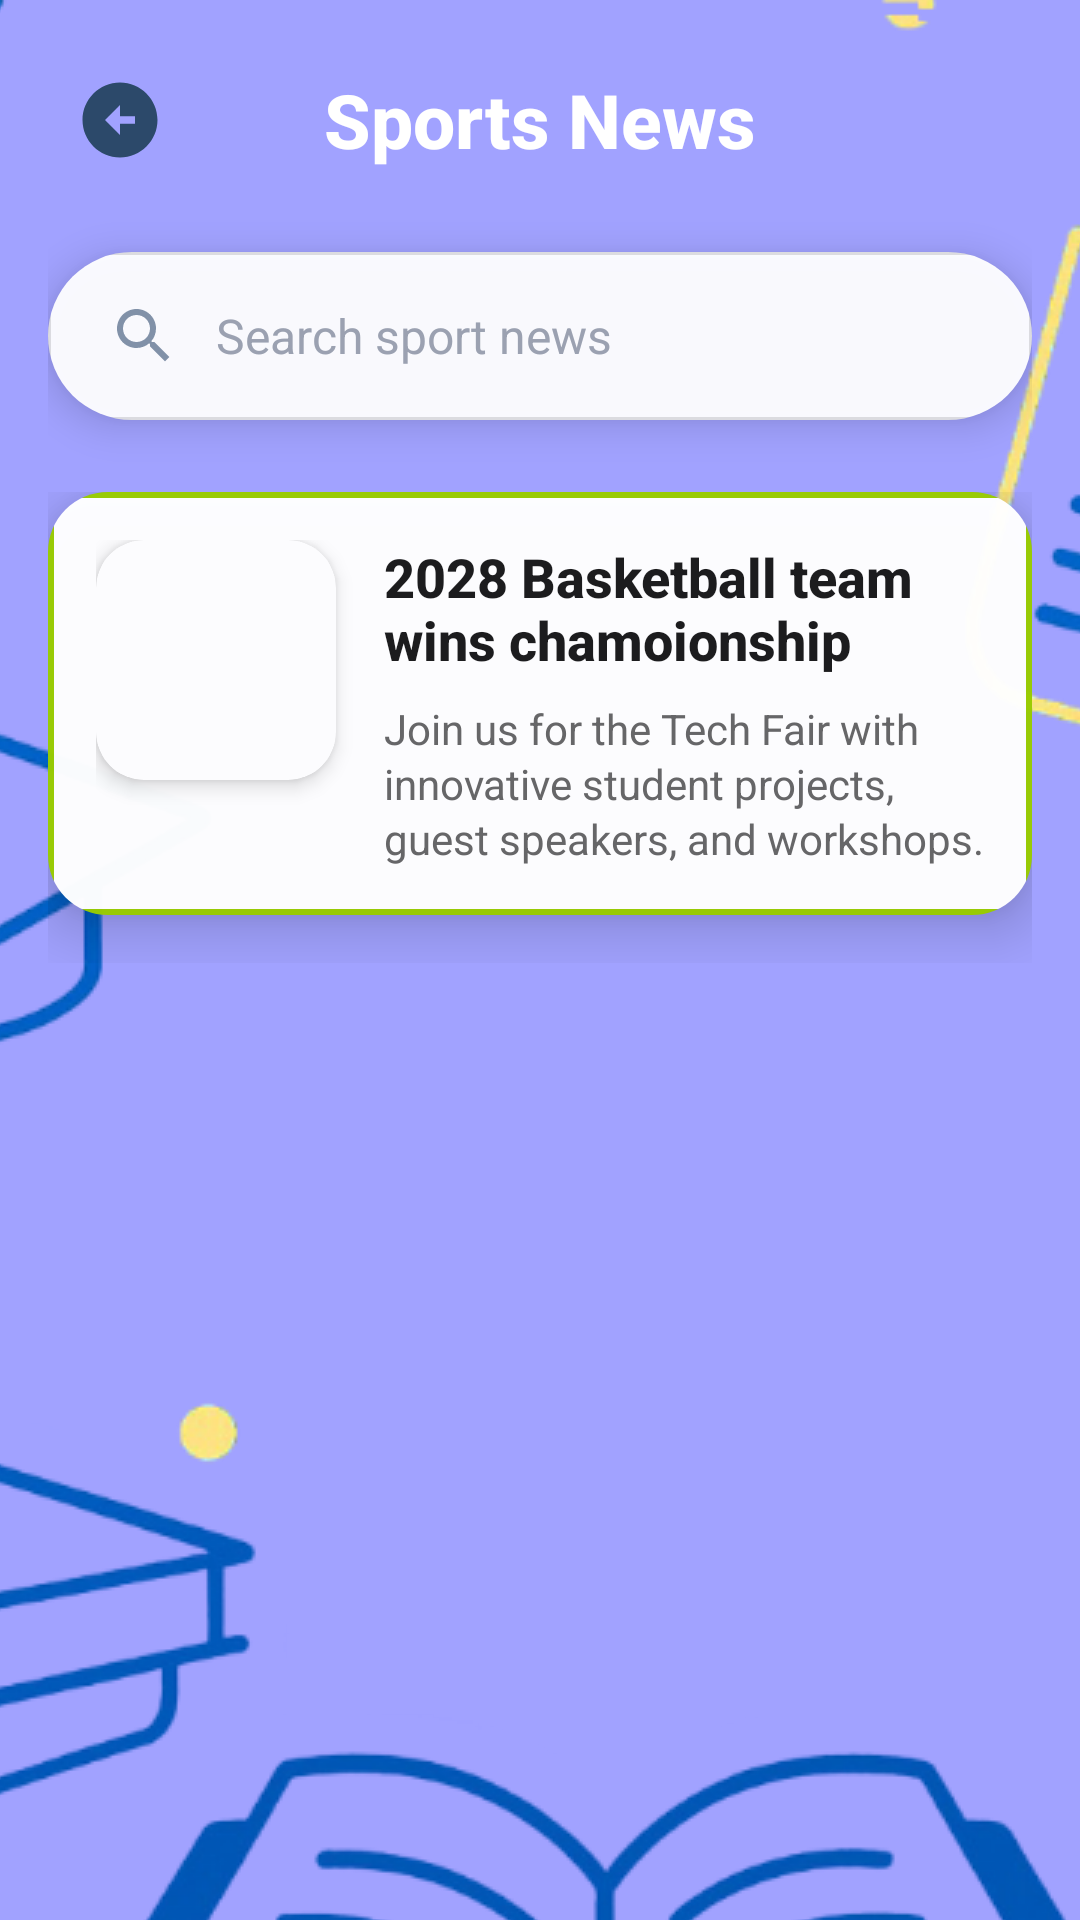

Named icons in this screenshot (1080*1920) and their bounding boxes, BBox(x1, y1, x2, y2):
Go back to previous screen: BBox(82, 82, 158, 158)
